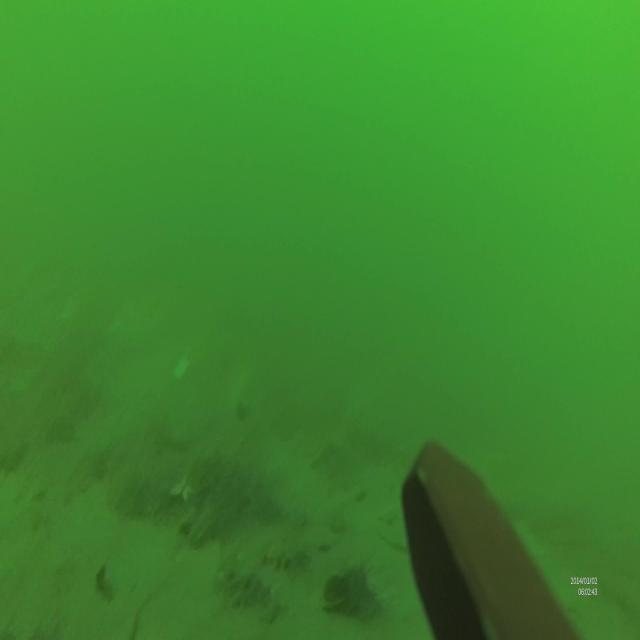holothurian: (219, 558, 282, 616), (258, 538, 313, 577)
